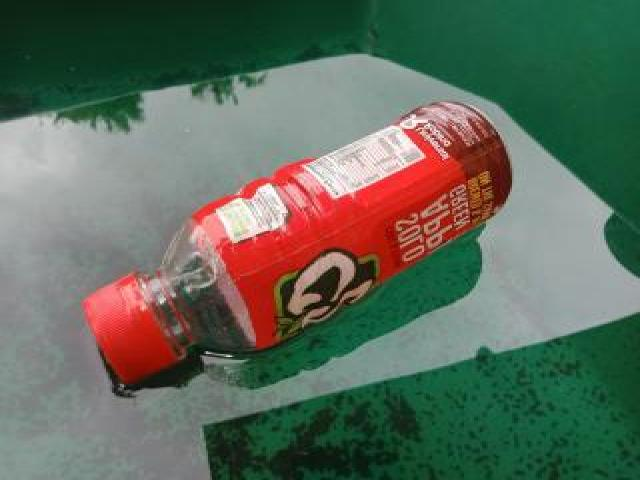Bottle: (74, 93, 520, 397)
